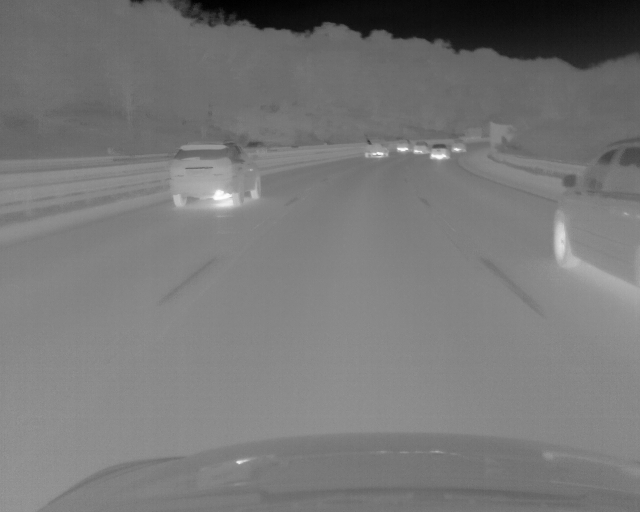car: (550, 137, 640, 292), (168, 139, 264, 210), (362, 133, 389, 158), (430, 145, 450, 160), (414, 141, 430, 156), (395, 138, 410, 153), (451, 142, 468, 153)
